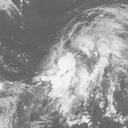cyclone: (47, 38, 96, 92)
